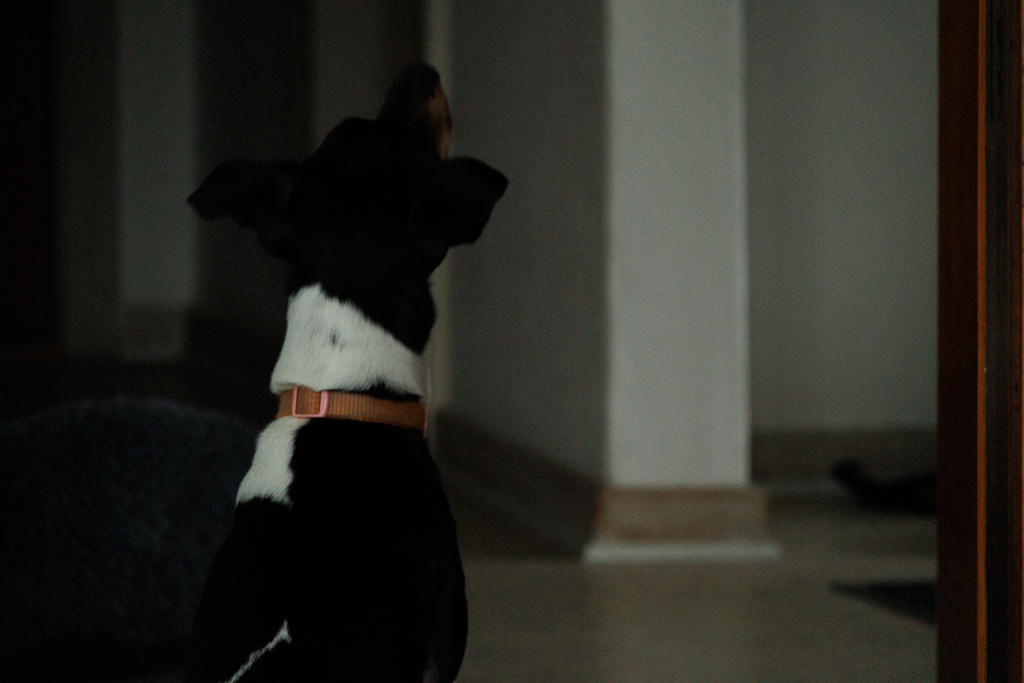Dog: (131, 53, 525, 683)
